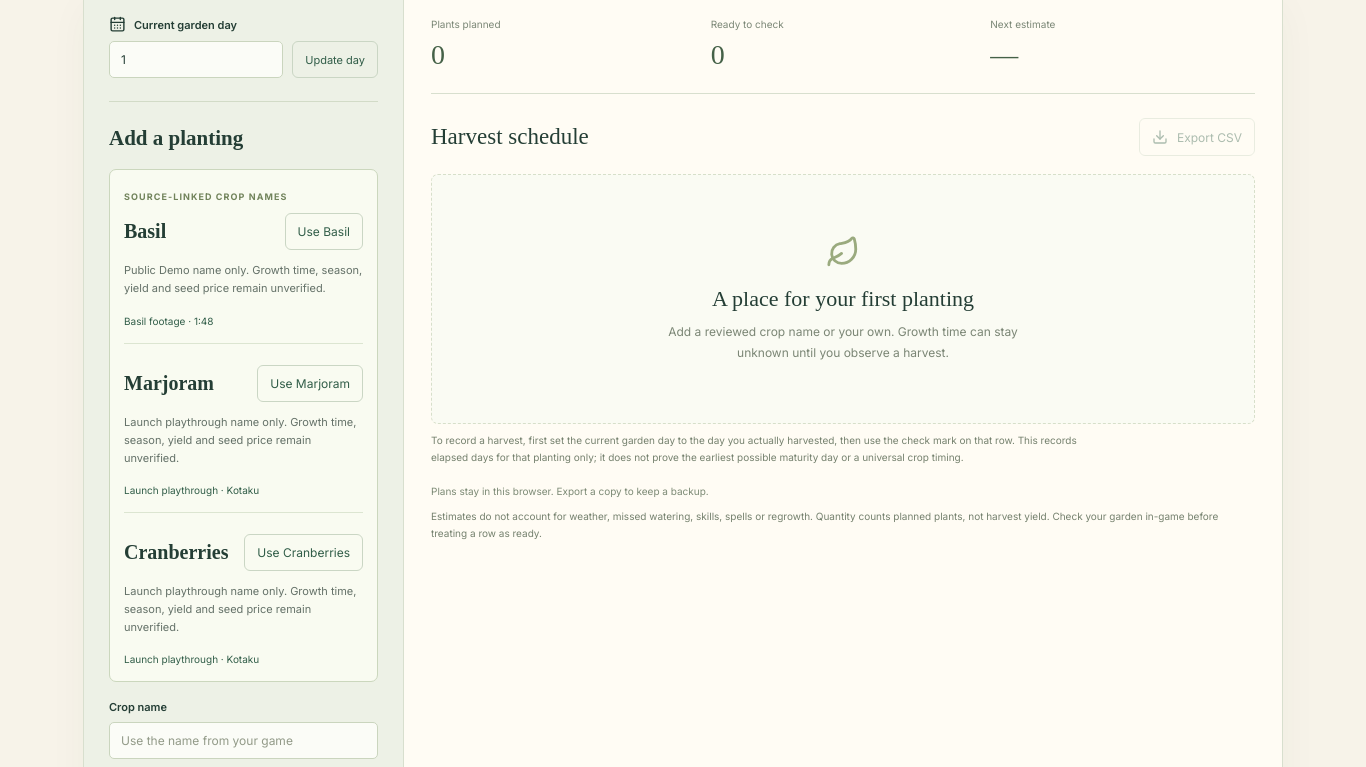
Glimmerwick garden tool › reflects the live release and offers launch-observed crops without invented numbers
(page scrolled)
Step 1. Click the button "Use Marjoram" → coordinates (310, 383), box [257,365,363,402]
(page scrolled)
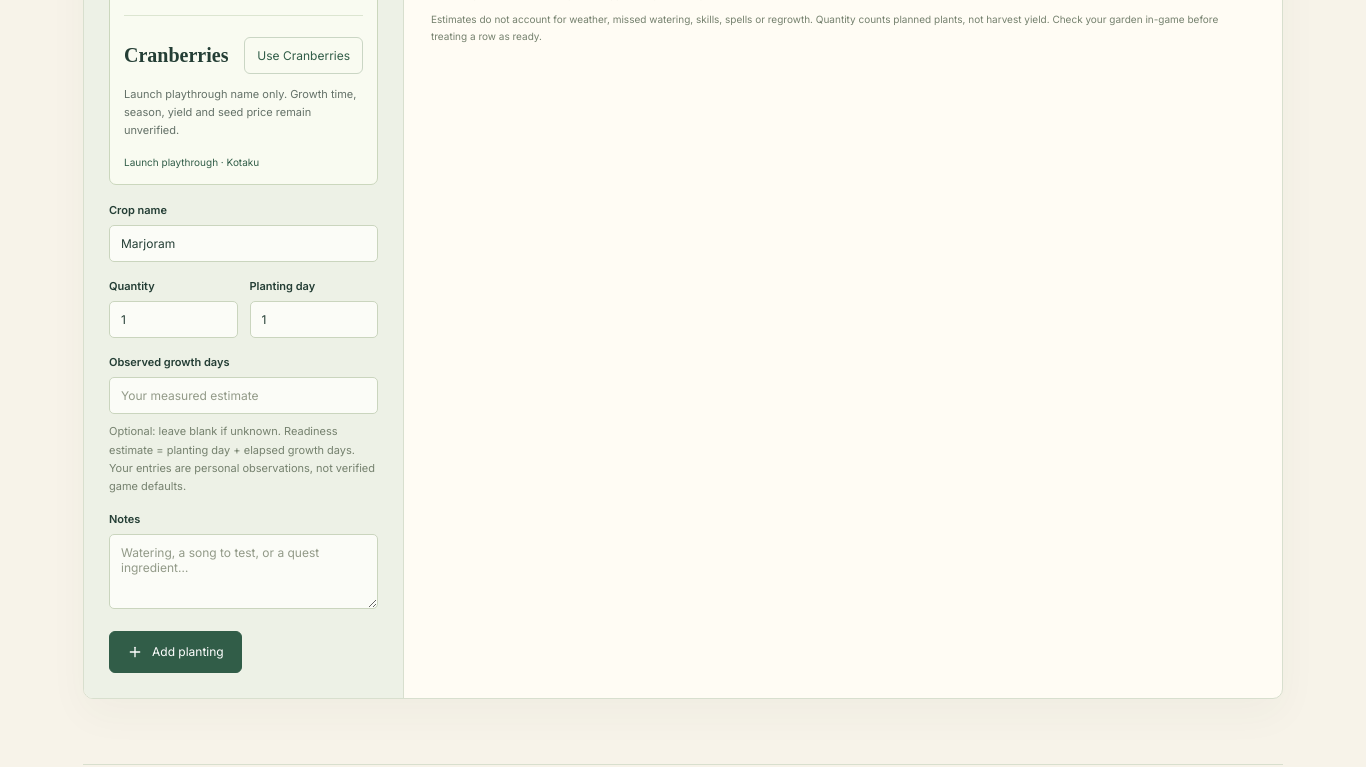
Expected: the number field labelled "Observed growth days" is empty, [109,377,378,414]
Expected: the field labelled "Crop name" holds "Marjoram", [109,225,378,262]
